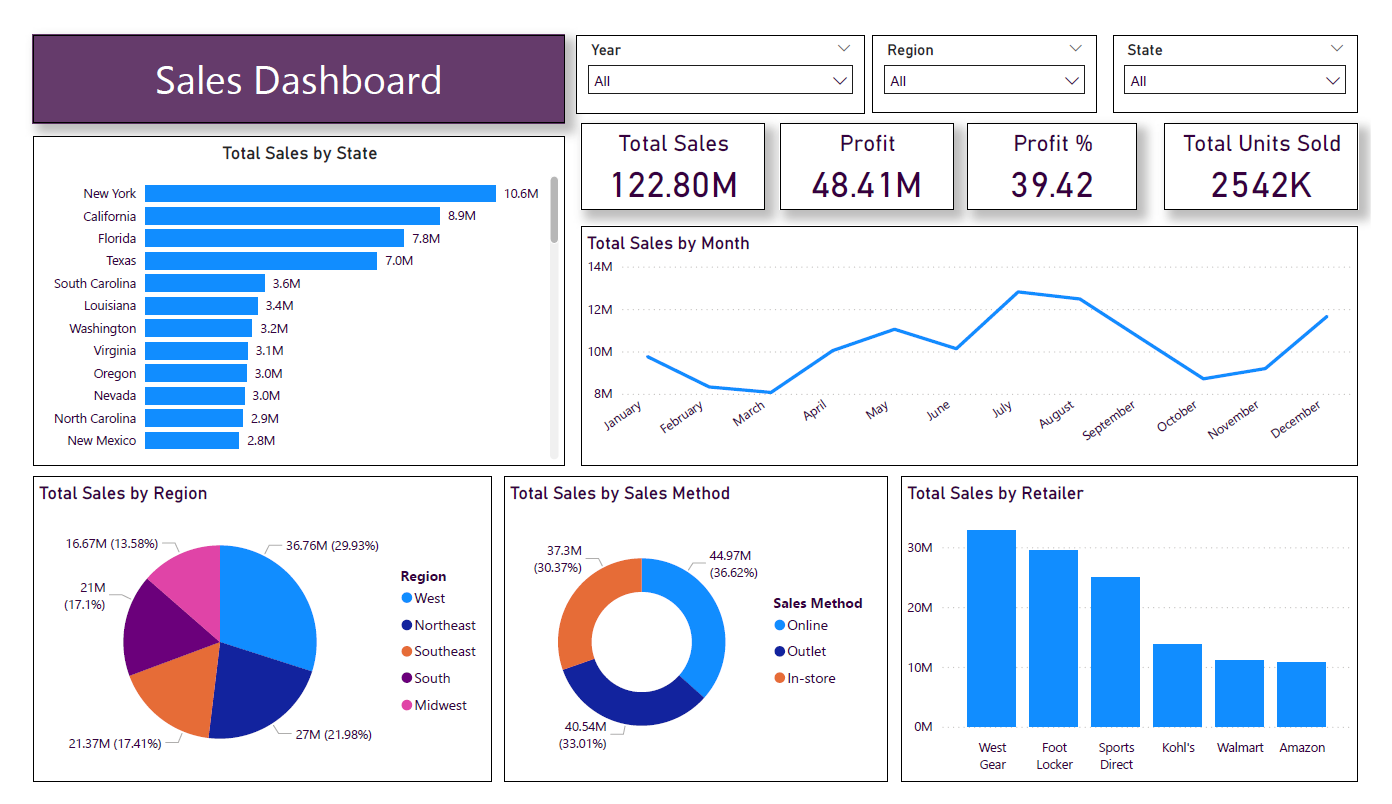

The dashboard page shown, as its layout file describes it:
{"tool":"powerbi","page":{"name":"Page 1","canvas":[1280,720],"ordinal":0},"visuals":[{"type":"textbox","box":[9.6,11,505,83.7],"z":0},{"type":"card","title":"Total Sales","fields":{"Values":["Data Sales Adidas.Total_Sales_Value"]},"box":[529.7,94.7,175.6,82.3],"z":1000},{"type":"card","title":"Profit","fields":{"Values":["Data Sales Adidas.Total_Profit"]},"box":[719,94.7,164.7,82.3],"z":2000},{"type":"card","title":"Profit %","fields":{"Values":["Data Sales Adidas.Operating Margin %"]},"box":[897.4,94.7,160.5,82.3],"z":3000},{"type":"card","title":"Total Units Sold","fields":{"Values":["Data Sales Adidas.Total Units Sold (K)"]},"box":[1084.1,94.7,183.9,82.3],"z":4000},{"type":"slicer","fields":{"Values":["Data Sales Adidas.Year"]},"box":[525.6,11,274.4,75.5],"z":5000},{"type":"slicer","fields":{"Values":["Data Sales Adidas.Region"]},"box":[806.9,11,212.7,74.1],"z":6000},{"type":"slicer","fields":{"Values":["Data Sales Adidas.State"]},"box":[1034.7,11,233.3,74.1],"z":7000},{"type":"barChart","title":"Total Sales by State","fields":{"Y":["Sum(Data Sales Adidas.Total Sales)"],"Category":["Data Sales Adidas.State"]},"box":[9.6,107,505,312.9],"z":8000},{"type":"lineChart","title":"Total Sales by Month","fields":{"Category":["Data Sales Adidas.Invoice Date.Variation.Date Hierarchy.Month"],"Y":["Sum(Data Sales Adidas.Total Sales)"]},"box":[529.7,192.1,738.3,227.8],"z":9000},{"type":"pieChart","title":"Total Sales by Region","fields":{"Category":["Data Sales Adidas.Region"],"Y":["Sum(Data Sales Adidas.Total Sales)"]},"box":[9.6,429.5,436.4,290.9],"z":10000},{"type":"donutChart","title":"Total Sales by Sales Method","fields":{"Category":["Data Sales Adidas.Sales Method"],"Y":["Sum(Data Sales Adidas.Total Sales)"]},"box":[456.9,429.5,365,290.9],"z":11000},{"type":"clusteredColumnChart","title":"Total Sales by Retailer","fields":{"Category":["Data Sales Adidas.Retailer"],"Y":["Sum(Data Sales Adidas.Total Sales)"]},"box":[834.3,429.5,433.6,290.9],"z":12000}]}

Visuals, with their boxes in screenshot pixels (x1, y1, x2, y2), scaled from the page's 1280x720 canvas onto the 1392x804 screenshot:
textbox: left=10, top=12, right=560, bottom=106
"Total Sales" card: left=576, top=106, right=767, bottom=198
"Profit" card: left=782, top=106, right=961, bottom=198
"Profit %" card: left=976, top=106, right=1150, bottom=198
"Total Units Sold" card: left=1179, top=106, right=1379, bottom=198
slicer - Data Sales Adidas.Year: left=572, top=12, right=870, bottom=97
slicer - Data Sales Adidas.Region: left=878, top=12, right=1109, bottom=95
slicer - Data Sales Adidas.State: left=1125, top=12, right=1379, bottom=95
"Total Sales by State" barChart: left=10, top=119, right=560, bottom=469
"Total Sales by Month" lineChart: left=576, top=215, right=1379, bottom=469
"Total Sales by Region" pieChart: left=10, top=480, right=485, bottom=803
"Total Sales by Sales Method" donutChart: left=497, top=480, right=894, bottom=803
"Total Sales by Retailer" clusteredColumnChart: left=907, top=480, right=1379, bottom=803
